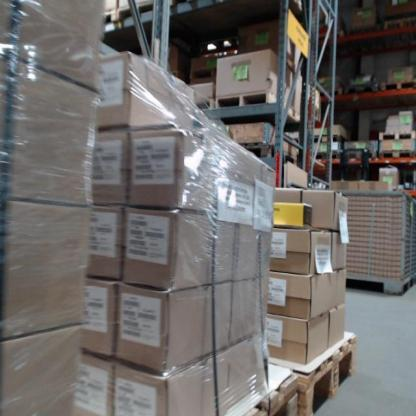pallets: (237, 332, 360, 414), (211, 89, 286, 117), (230, 141, 299, 167), (93, 1, 160, 27), (372, 131, 416, 163), (307, 83, 371, 103), (378, 73, 416, 103), (310, 148, 367, 163), (378, 16, 416, 33), (307, 134, 344, 145)
